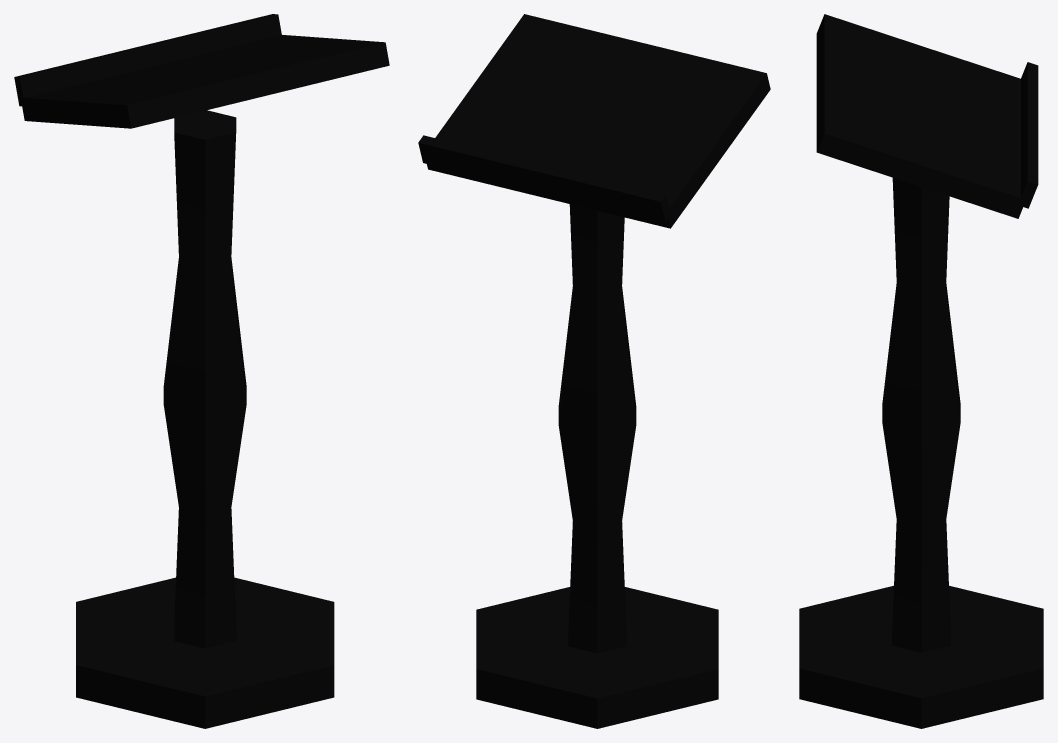
Rendered from SM_lectern.fbx.
3 renders of one model, left to right at view 1: azimuth 30°, elevation 25°; view 2: azimuth 150°, elevation 25°; view 3: azimuth 270°, elevation 25°, orthographic. The views are drawn at different scales.
Parts seen in each view (by area): view 1: lectern; view 2: lectern; view 3: lectern.
Part boxes in pixels (left/top/right/bottom): lectern: left=14, top=14, right=389, bottom=728; lectern: left=418, top=14, right=770, bottom=728; lectern: left=799, top=14, right=1043, bottom=728.
Bounding box in the file's own units: 0.5 × 1.16 × 0.433.
